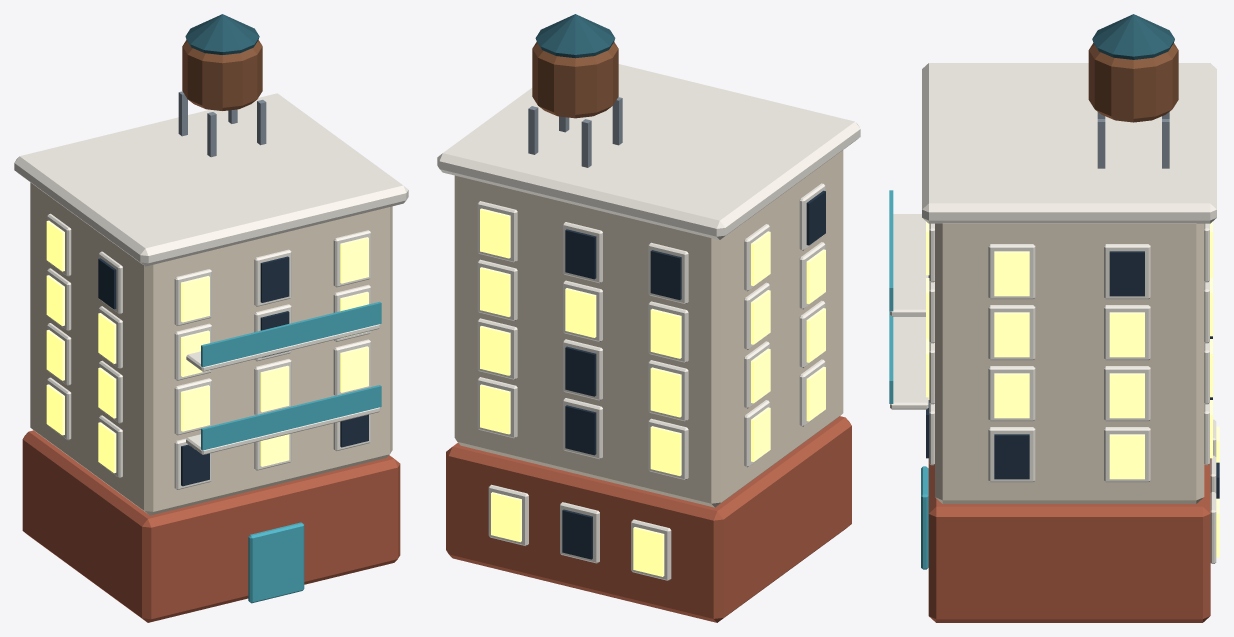
3 views of the same model, side by side, from view 1: azimuth 30°, elevation 25°; view 2: azimuth 150°, elevation 25°; view 3: azimuth 270°, elevation 25° (orthographic). The views are drawn at different scales.
Parts seen in each view (by area): view 1: Cube; view 2: Cube; view 3: Cube.
Boxes of the visible parts, bbox=[...] form: Cube: bbox=[14, 14, 408, 622]; Cube: bbox=[437, 14, 860, 622]; Cube: bbox=[889, 14, 1219, 622].
Size of the model in its own units: 0.54 by 0.97 by 0.515.
